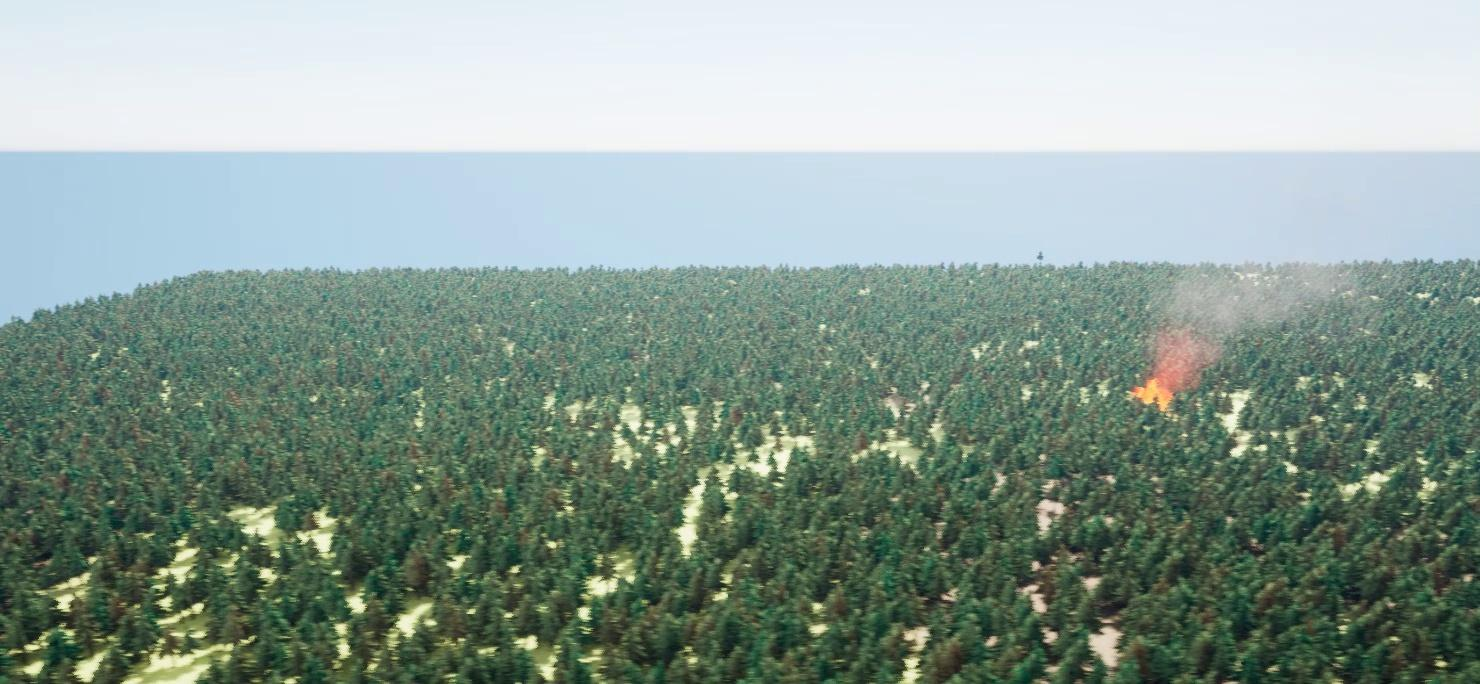fire: (1128, 375, 1179, 411)
smoke: (1149, 243, 1361, 380)
